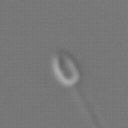normal: (72, 81, 105, 128)
